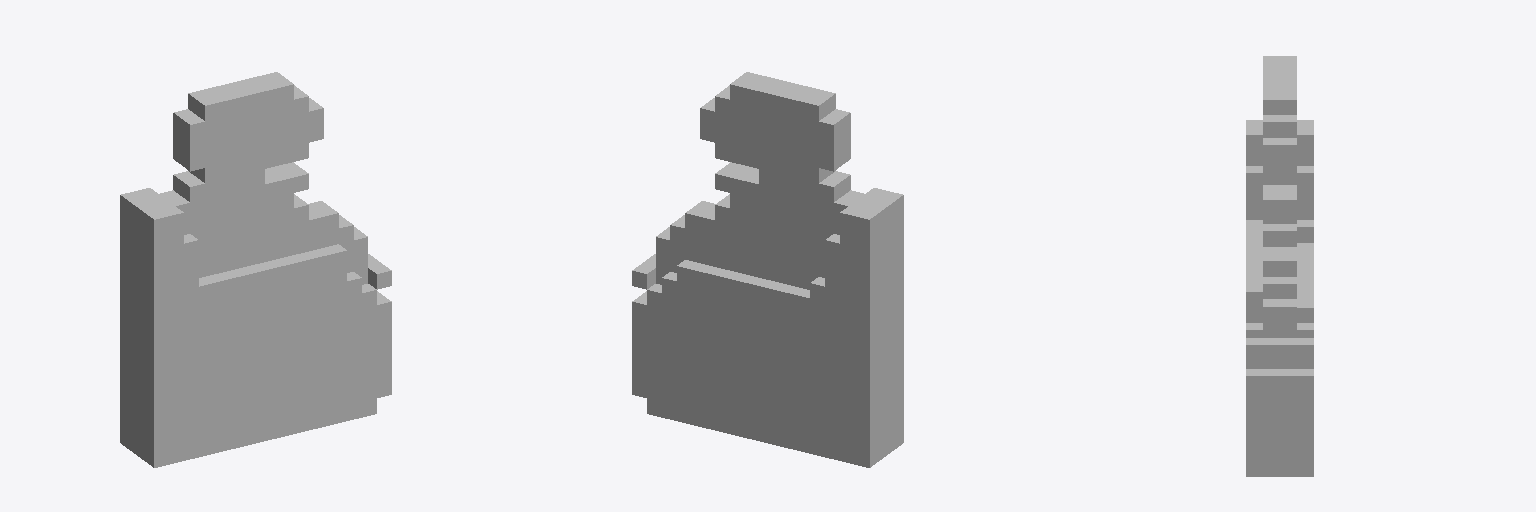
The model's file is Boss.obj.
3 views of the same model, side by side, from view 1: azimuth 30°, elevation 25°; view 2: azimuth 150°, elevation 25°; view 3: azimuth 270°, elevation 25° (orthographic).
Parts seen in each view (by area): view 1: object 1; view 2: object 1; view 3: object 1.
Part boxes in pixels (bbox=[...]): object 1: bbox=[120, 72, 391, 467]; object 1: bbox=[632, 72, 903, 467]; object 1: bbox=[1246, 56, 1313, 476].
Size of the model in its own units: 1.6 by 2.2 by 0.4.